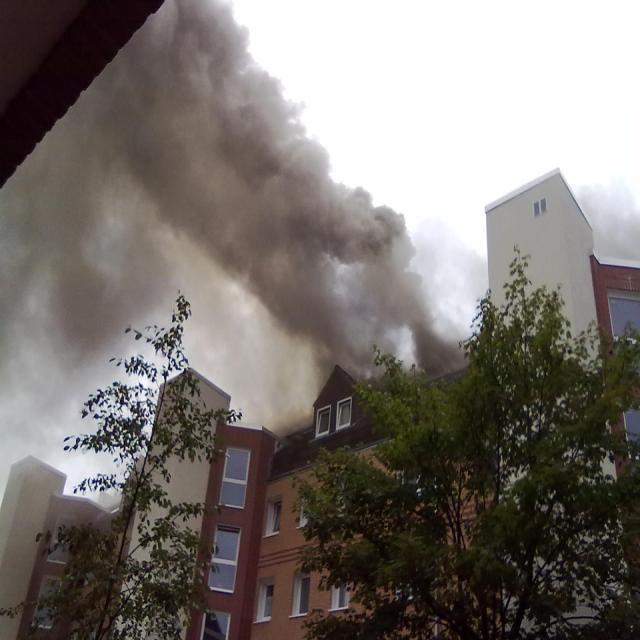Smoke: (0, 0, 464, 387)
